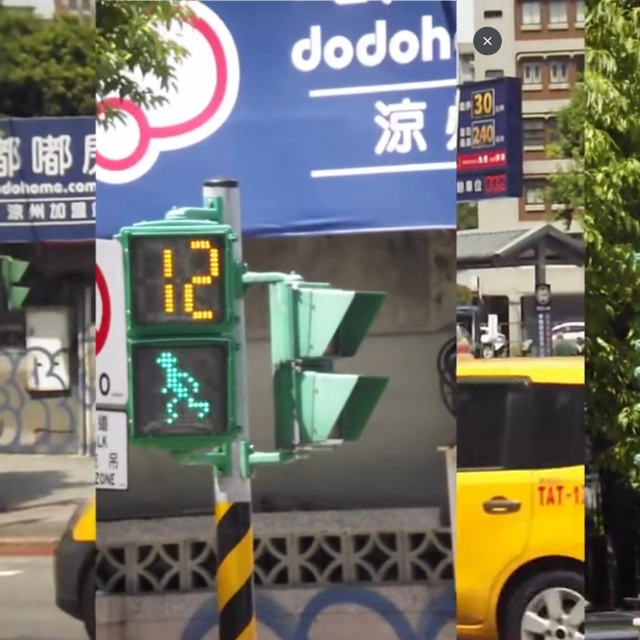green_light: (120, 228, 235, 446)
